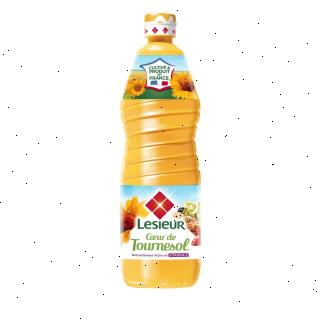Plastic-bottle: (116, 8, 208, 294)
